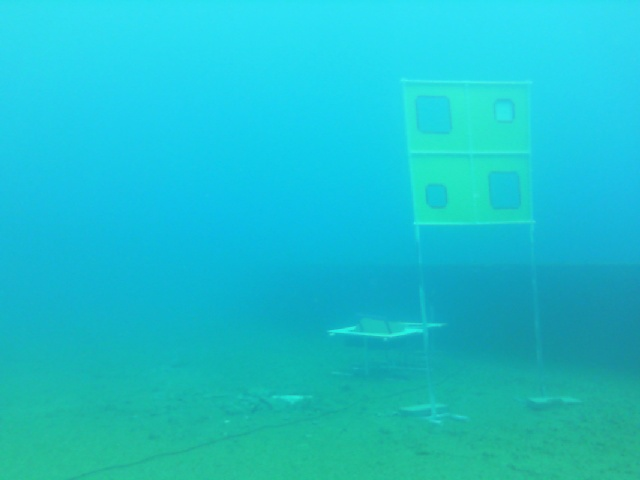torpedo_cover: (494, 102, 516, 123)
torpedo_hole: (414, 90, 457, 137), (487, 172, 519, 210), (490, 100, 521, 130), (425, 182, 454, 206)
torpedo_target: (394, 76, 538, 228)
